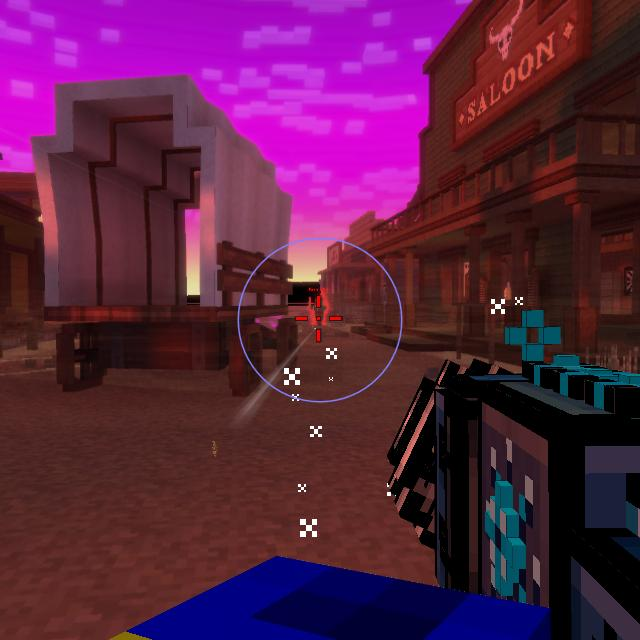Enemy: (311, 298, 326, 325)
